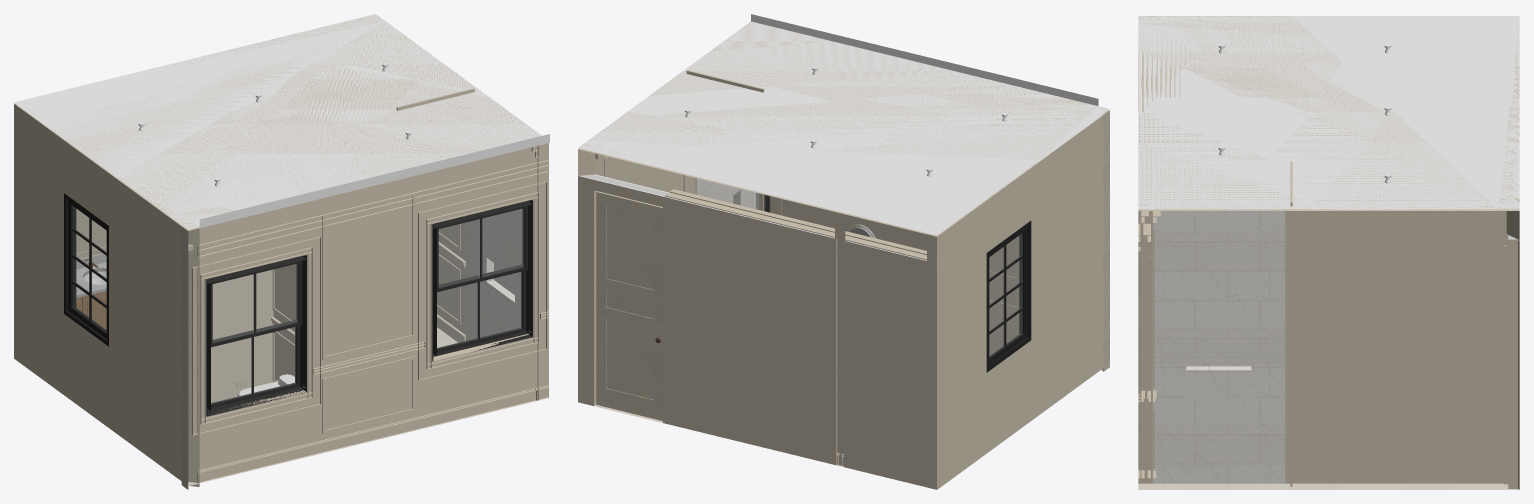
File: primary-bath-a5b08f8401f9.glb
3 renders of one model, left to right at view 1: azimuth 30°, elevation 25°; view 2: azimuth 150°, elevation 25°; view 3: azimuth 270°, elevation 25°, orthographic. The views are drawn at different scales.
Parts seen in each view (by area): view 1: primary-bath-9d91b47435c6fb33, primary-bath-b0ade14315e4f1c3, primary-bath-c51ecd664a3b22a3, primary-bath-e8793759323e04f0, primary-bath-60f0db96f832035a, primary-bath-b5cb73c07919def8, primary-bath-10eba734bfa580f9, primary-bath-20932135983111ad, primary-bath-ef64d5096d209f6d, primary-bath-b5339e4b2b15762b, primary-bath-62353aa10fc57f23, primary-bath-60fdccf5ce87031e (+16 smaller); view 2: primary-bath-9ecc0d558be1c706, primary-bath-9d91b47435c6fb33, primary-bath-c51ecd664a3b22a3, primary-bath-e8793759323e04f0, primary-bath-18f70a4a9eda5dac, primary-bath-20932135983111ad, primary-bath-25ea03c5717987c5, primary-bath-e48b5483df8cacdb, primary-bath-fc6585fecfaf7ec3, primary-bath-62353aa10fc57f23, primary-bath-1a6c50e4c3accb7b, primary-bath-b88ac105ef7c3bdb (+4 smaller); view 3: primary-bath-9d91b47435c6fb33, primary-bath-fc6585fecfaf7ec3, primary-bath-3d8660a29b1e398e, primary-bath-e8793759323e04f0, primary-bath-2bc0761cc32b9613, primary-bath-c791a0f218fead78, primary-bath-9ecc0d558be1c706, primary-bath-343da8f45fc39332, primary-bath-b3921aced1f99593, primary-bath-b3dc771ed6f89851, primary-bath-38b306e83be12a4b, primary-bath-27bf58fbfac99dc6 (+7 smaller).
Boxes of the visible parts, x1=… form: primary-bath-9d91b47435c6fb33: x1=14, y1=14, x2=549, y2=230; primary-bath-b0ade14315e4f1c3: x1=199, y1=143, x2=548, y2=479; primary-bath-c51ecd664a3b22a3: x1=14, y1=103, x2=181, y2=480; primary-bath-e8793759323e04f0: x1=61, y1=16, x2=549, y2=229; primary-bath-60f0db96f832035a: x1=206, y1=255, x2=306, y2=416; primary-bath-b5cb73c07919def8: x1=432, y1=200, x2=532, y2=360; primary-bath-10eba734bfa580f9: x1=215, y1=269, x2=273, y2=401; primary-bath-20932135983111ad: x1=64, y1=193, x2=108, y2=346; primary-bath-ef64d5096d209f6d: x1=197, y1=385, x2=549, y2=483; primary-bath-b5339e4b2b15762b: x1=197, y1=159, x2=549, y2=257; primary-bath-62353aa10fc57f23: x1=181, y1=226, x2=199, y2=489; primary-bath-60fdccf5ce87031e: x1=426, y1=192, x2=538, y2=369; primary-bath-9ecc0d558be1c706: x1=578, y1=174, x2=935, y2=489; primary-bath-9d91b47435c6fb33: x1=578, y1=21, x2=1109, y2=236; primary-bath-c51ecd664a3b22a3: x1=927, y1=115, x2=1103, y2=489; primary-bath-e8793759323e04f0: x1=581, y1=14, x2=1104, y2=170; primary-bath-18f70a4a9eda5dac: x1=596, y1=191, x2=662, y2=420; primary-bath-20932135983111ad: x1=986, y1=220, x2=1031, y2=372; primary-bath-25ea03c5717987c5: x1=989, y1=235, x2=1019, y2=355; primary-bath-e48b5483df8cacdb: x1=835, y1=212, x2=845, y2=467; primary-bath-fc6585fecfaf7ec3: x1=578, y1=149, x2=693, y2=193; primary-bath-62353aa10fc57f23: x1=1102, y1=110, x2=1109, y2=371; primary-bath-1a6c50e4c3accb7b: x1=770, y1=196, x2=892, y2=242; primary-bath-b88ac105ef7c3bdb: x1=592, y1=188, x2=664, y2=423; primary-bath-9d91b47435c6fb33: x1=1138, y1=16, x2=1519, y2=210; primary-bath-fc6585fecfaf7ec3: x1=1292, y1=209, x2=1519, y2=489; primary-bath-3d8660a29b1e398e: x1=1152, y1=211, x2=1284, y2=351; primary-bath-e8793759323e04f0: x1=1138, y1=16, x2=1519, y2=209; primary-bath-2bc0761cc32b9613: x1=1152, y1=366, x2=1284, y2=483; primary-bath-c791a0f218fead78: x1=1138, y1=209, x2=1290, y2=489; primary-bath-9ecc0d558be1c706: x1=1506, y1=234, x2=1518, y2=488; primary-bath-343da8f45fc39332: x1=1296, y1=470, x2=1498, y2=483; primary-bath-b3921aced1f99593: x1=1138, y1=483, x2=1518, y2=489; primary-bath-b3dc771ed6f89851: x1=1308, y1=224, x2=1486, y2=382; primary-bath-38b306e83be12a4b: x1=1152, y1=351, x2=1284, y2=366; primary-bath-27bf58fbfac99dc6: x1=1186, y1=369, x2=1251, y2=399.
Size of the model in its own units: 4.3 by 3.04 by 3.59.
Materials: 32 (8 with a texture image).
